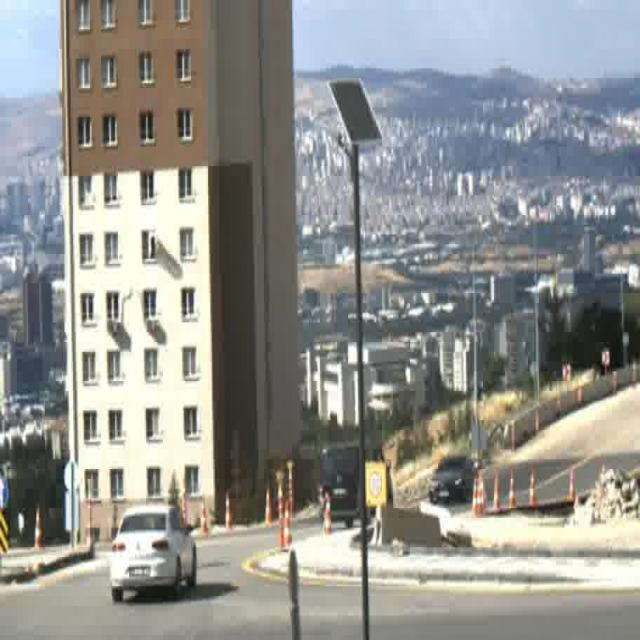Car: (108, 507, 197, 598), (317, 446, 394, 530), (428, 462, 477, 508)
